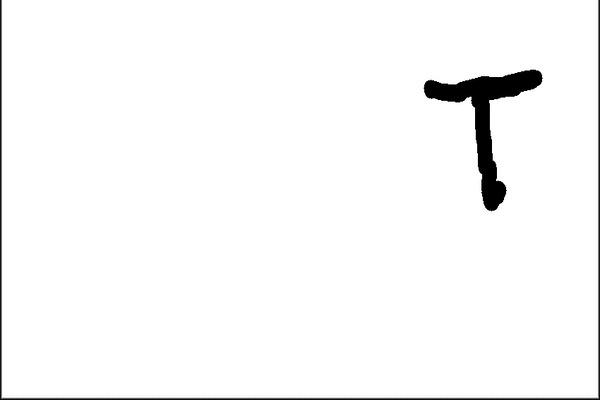T: (420, 70, 554, 211)
